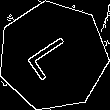L_NE: (23, 29, 83, 83)
